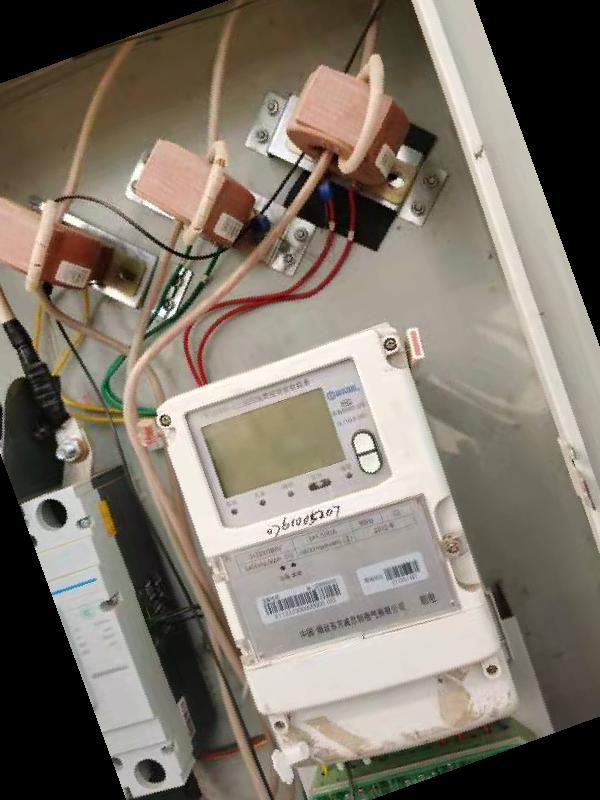digital: (157, 327, 500, 717)
